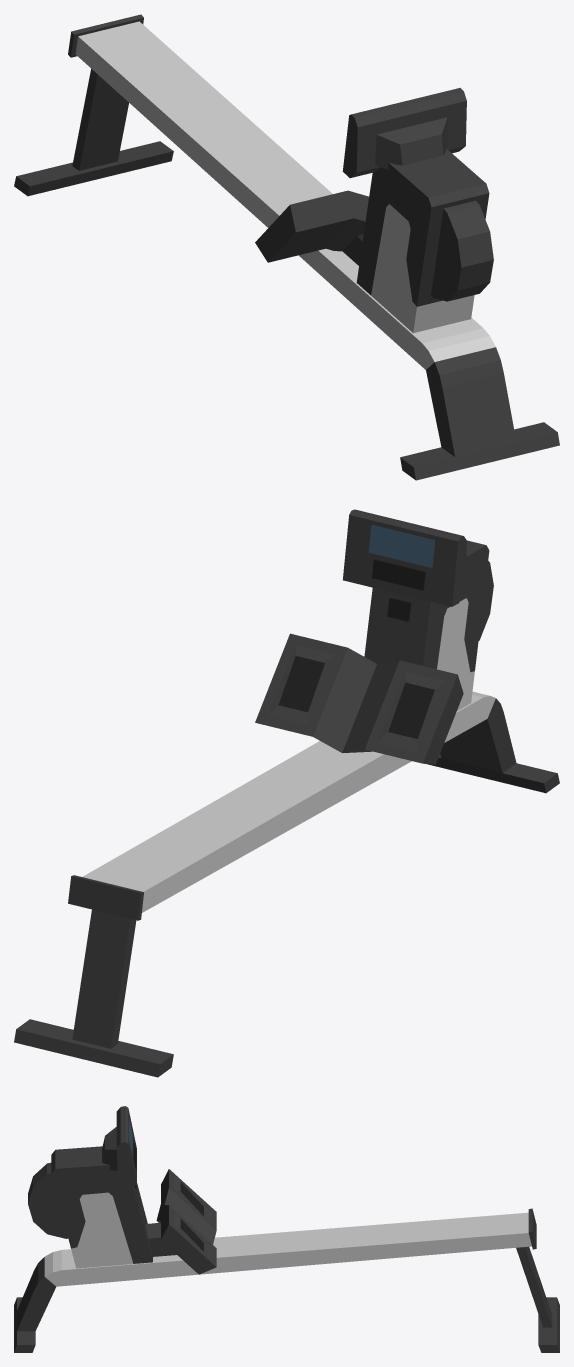
Rendered from Stationary_Rowing_Machine.fbx.
3 views of the same model, one above another, from view 1: azimuth 30°, elevation 25°; view 2: azimuth 150°, elevation 25°; view 3: azimuth 270°, elevation 25° (orthographic). The views are drawn at different scales.
Visible parts, largest first — view 1: Stationary_Rowing_Machine; view 2: Stationary_Rowing_Machine; view 3: Stationary_Rowing_Machine.
Boxes of the visible parts, bbox=[...] form: Stationary_Rowing_Machine: bbox=[14, 14, 559, 480]; Stationary_Rowing_Machine: bbox=[14, 509, 559, 1077]; Stationary_Rowing_Machine: bbox=[14, 1106, 559, 1352].
Bounding box in the file's own units: 55.42 × 95.28 × 230.
